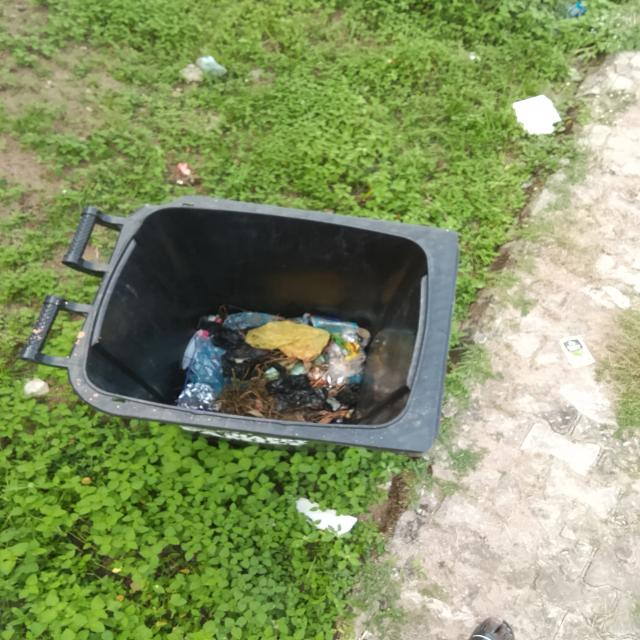half-full: (69, 197, 461, 447)
